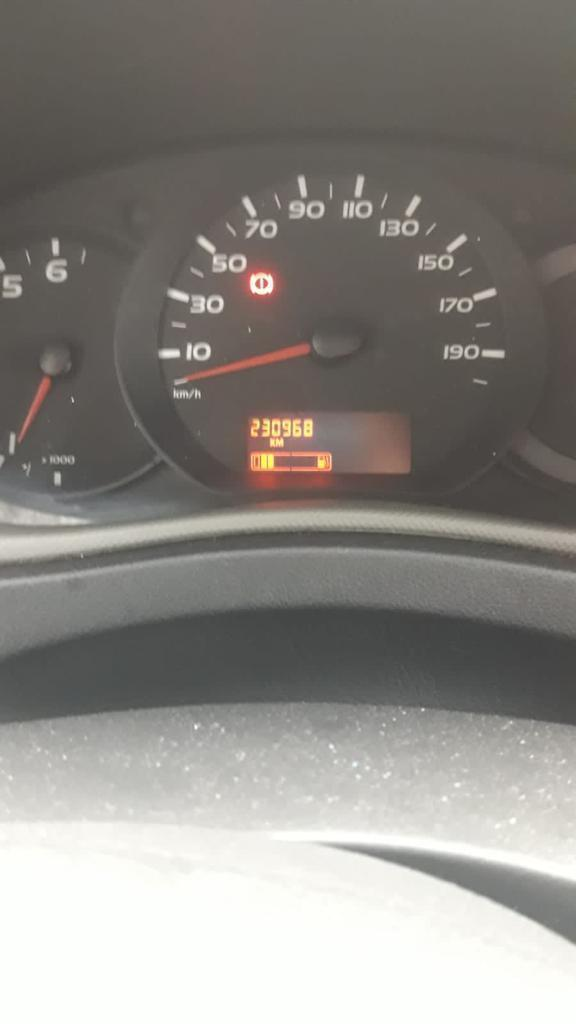0: (270, 417, 280, 437)
2: (249, 417, 259, 437)
3: (259, 416, 269, 438)
6: (292, 417, 302, 437)
8: (303, 418, 313, 437)
9: (281, 418, 291, 437)
X: (275, 437, 283, 447), (269, 436, 275, 448)
odometer: (233, 401, 418, 485)
